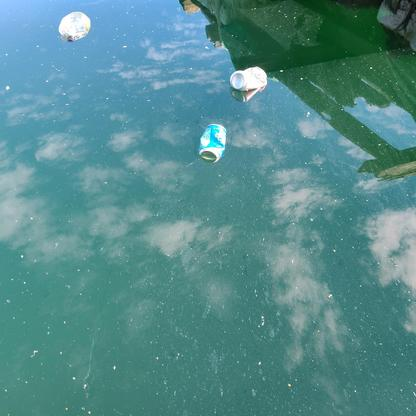can: (198, 122, 228, 163), (231, 66, 268, 91)
